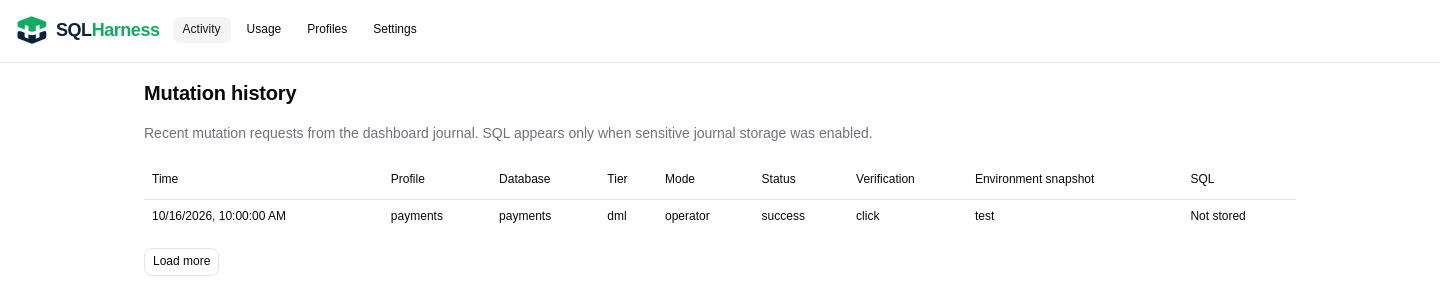
Scenario: history requests the next snapshot page with the returned cursor
The width and height of the screenshot is (1440, 293).
Expected: the number of cells "payments" is 2, [383,199,491,232]; [491,199,599,232]
Click the button "Load more" at {"x": 182, "y": 262}, box [144,248,219,276]
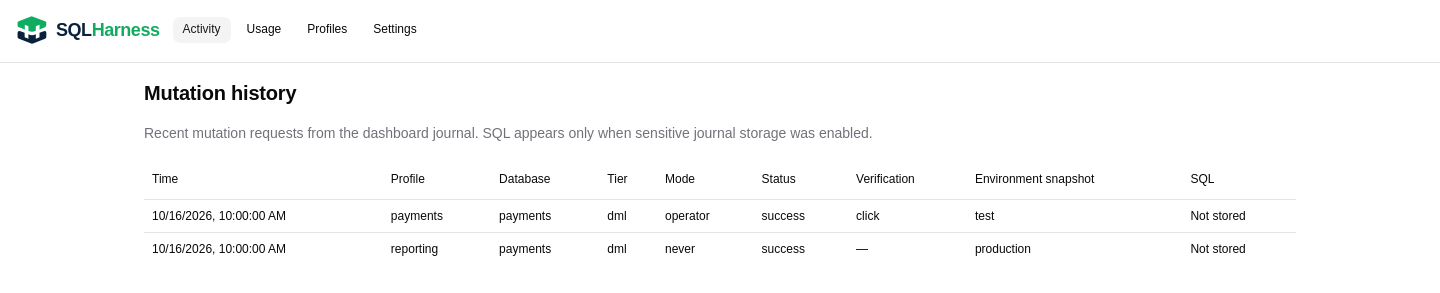
Expected: the cell "reporting" is shown, [383,232,491,264]
